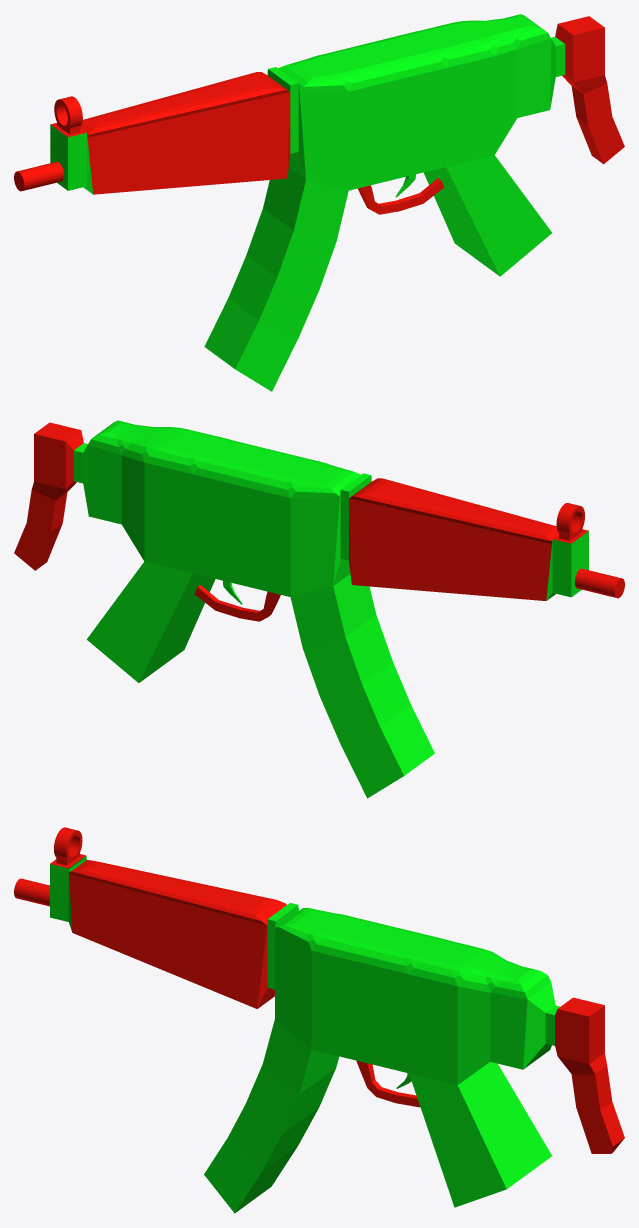
3 renders of one model, top to bottom at view 1: azimuth 30°, elevation 25°; view 2: azimuth 150°, elevation 25°; view 3: azimuth 330°, elevation 25°, orthographic.
Visible parts, largest first — view 1: Cube; view 2: Cube; view 3: Cube.
Boxes of the visible parts, left/top/right/bottom form: Cube: left=14, top=14, right=624, bottom=391; Cube: left=14, top=420, right=624, bottom=798; Cube: left=14, top=827, right=624, bottom=1213.
Bounding box in the file's own units: 388 × 201 × 51.06.
